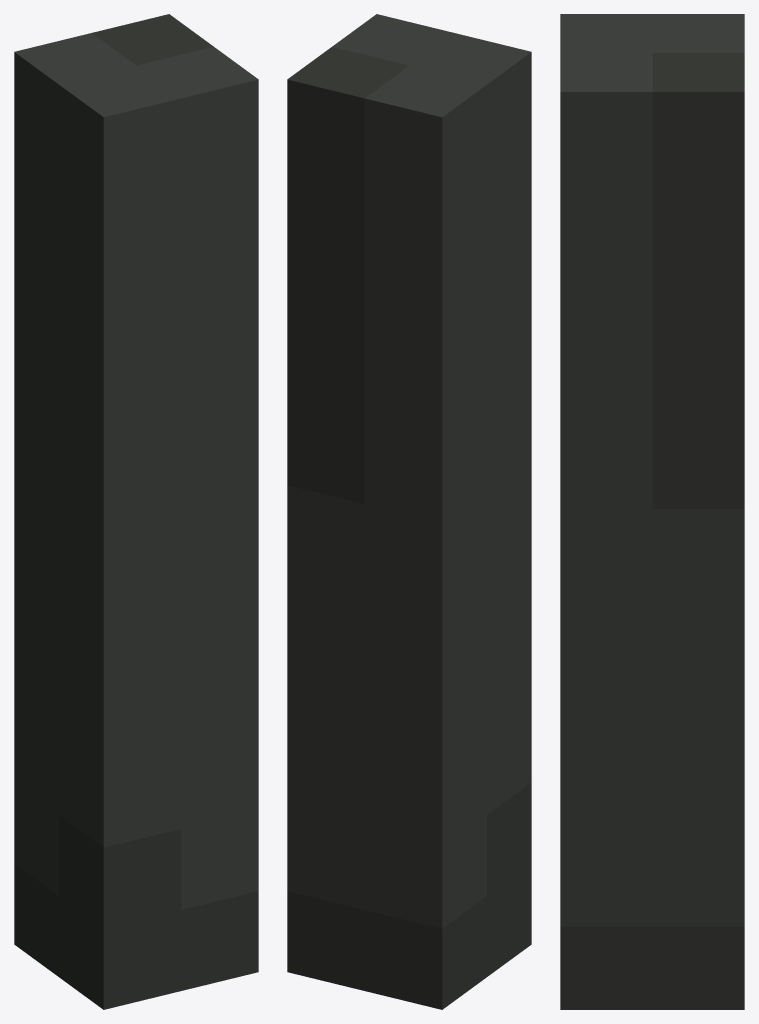
File: Redhead-2.obj
The picture shows the model from 3 angles, left to right: view 1: azimuth 30°, elevation 25°; view 2: azimuth 150°, elevation 25°; view 3: azimuth 270°, elevation 25°; orthographic projection. The views are drawn at different scales.
Size of the model in its own units: 0.2 by 1.1 by 0.2.
Materials: 1 (1 with a texture image).
